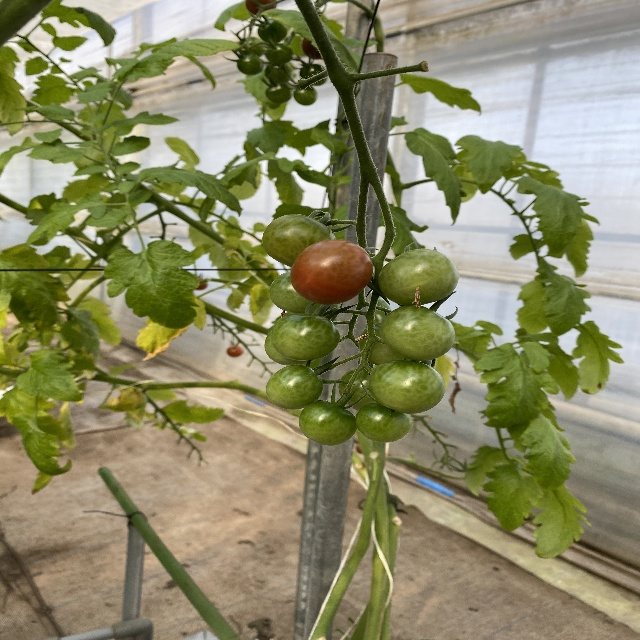l_green: (376, 247, 459, 306), (380, 305, 457, 361), (368, 360, 445, 413), (262, 214, 336, 269), (271, 313, 342, 362), (298, 400, 357, 446), (266, 364, 324, 410), (269, 269, 328, 314), (361, 323, 415, 367), (355, 404, 413, 443), (337, 368, 379, 411), (264, 331, 315, 366)
l_half_ripened: (290, 239, 373, 306)
